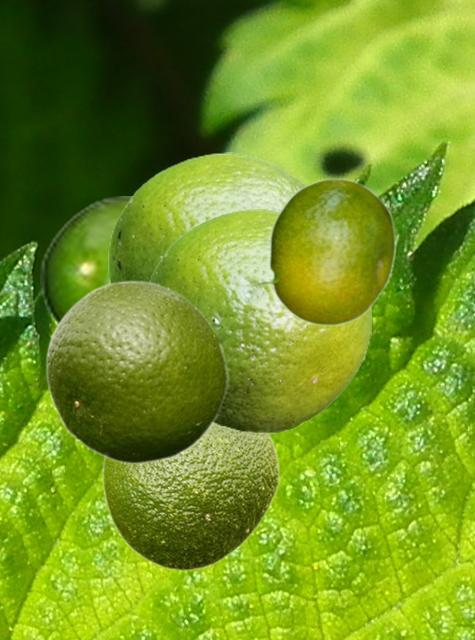calamansi: (146, 208, 370, 432), (45, 278, 228, 464), (108, 152, 307, 282), (101, 426, 279, 571), (226, 177, 395, 325), (39, 196, 130, 327)
